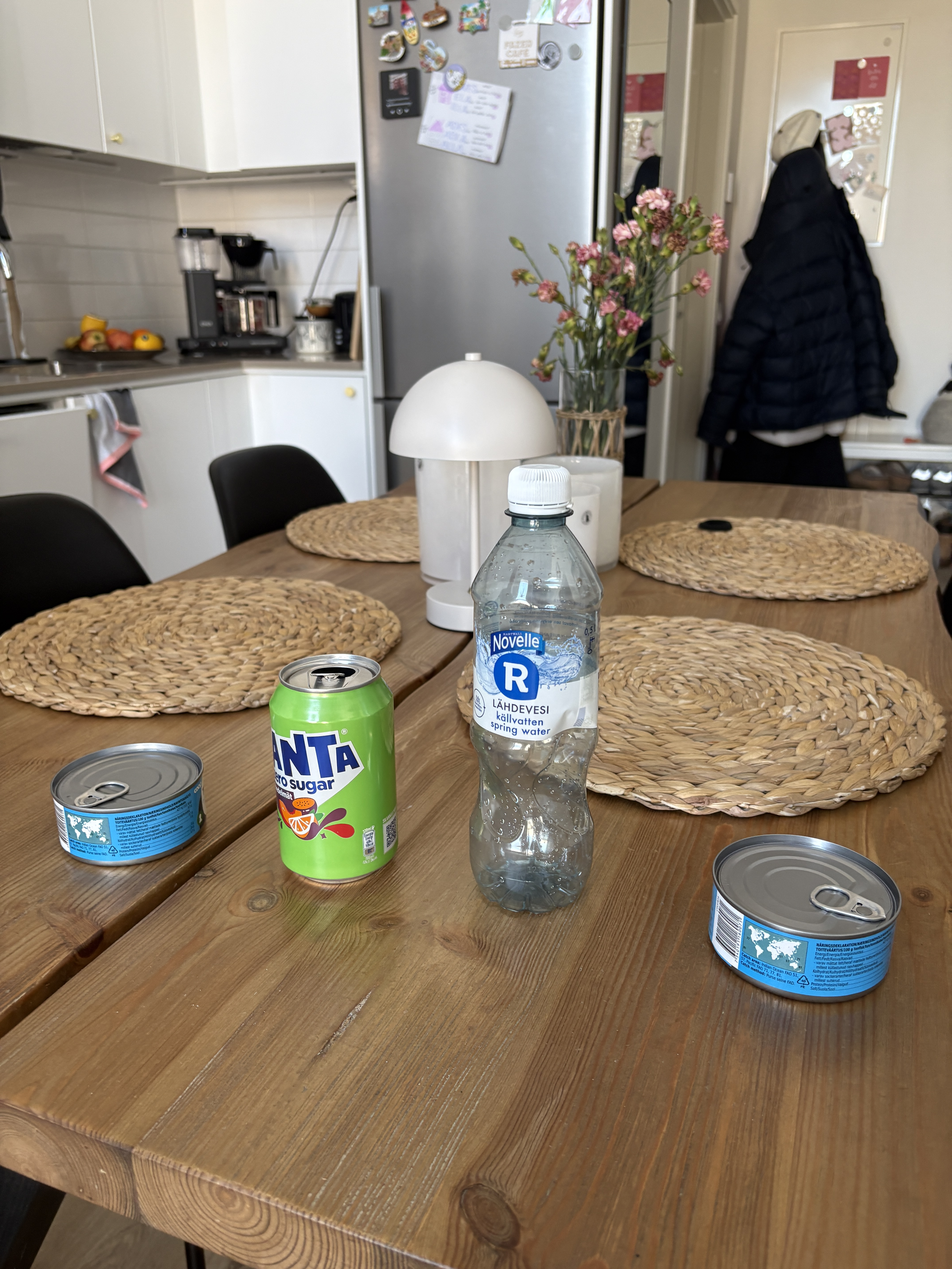Konservburk: (688, 784, 927, 1028), (29, 729, 225, 879)
Pantburk: (456, 428, 626, 927), (239, 631, 425, 913)
